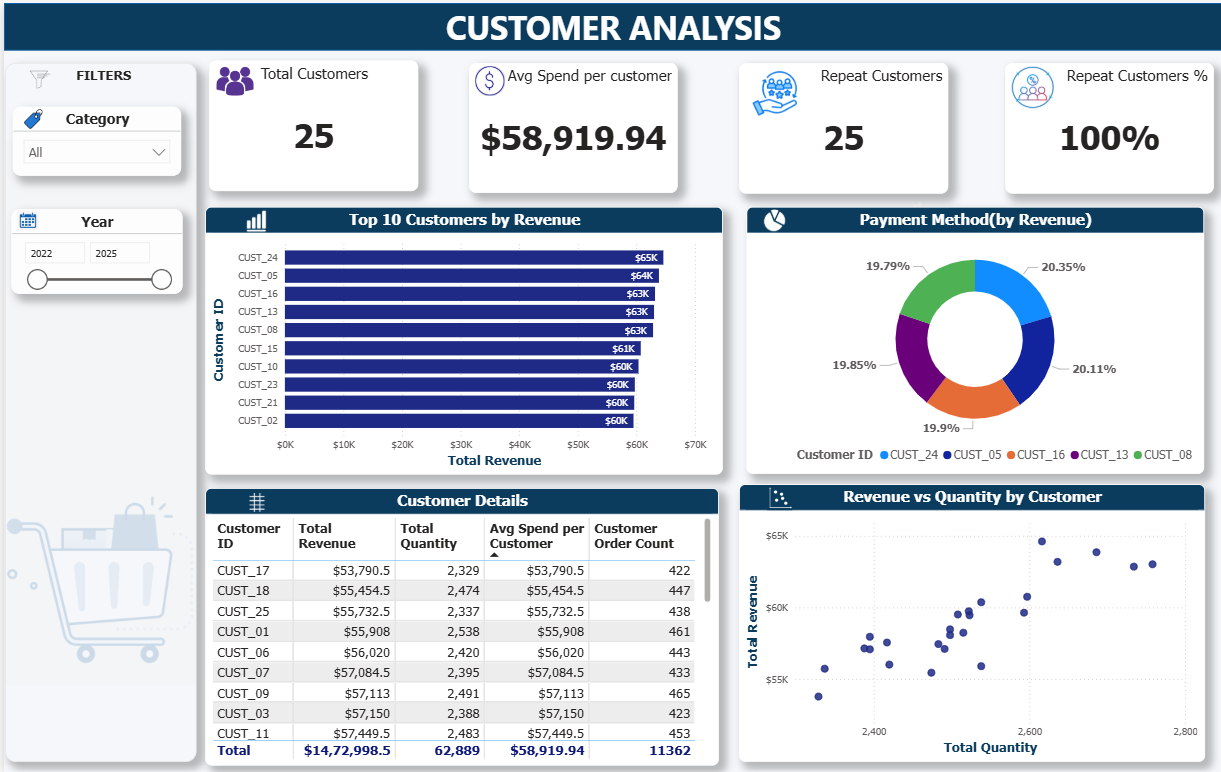

The dashboard page shown, as its layout file describes it:
{"tool":"powerbi","page":{"name":"CUSTOMER ANALYSIS","canvas":[1500,950],"ordinal":2},"visuals":[{"type":"shape","box":[0,0,1500,58.6],"z":0},{"type":"card","title":"Total Customers","fields":{"Values":["sales_cleaned.Total Customers"]},"box":[252.4,70,257.9,160.9],"z":0,"group":"g8"},{"type":"group","id":"g1","title":"Group 9","box":[572.9,74.3,257.1,160],"z":0,"group":"g9"},{"type":"image","box":[1.7,73.3,235,860],"z":1000},{"type":"textbox","box":[7.5,74,230,42.5],"z":2000},{"type":"image","box":[13.7,70.6,61.2,47.5],"z":3000},{"type":"slicer","title":"Category","fields":{"Values":["sales_cleaned.Category"]},"box":[11.4,127.6,207.5,85],"z":3000,"group":"g4"},{"type":"group","id":"g2","title":"Group 5","box":[247.1,249.3,637.1,330.7],"z":4000},{"type":"group","id":"g3","title":"Group 7","box":[8.6,254.3,210,104.3],"z":5000},{"type":"group","id":"g4","title":"Group 10","box":[11.4,127.6,207.5,85],"z":6000},{"type":"slicer","title":"Year","fields":{"Values":["sales_cleaned.Transaction Date.Variation.Date Hierarchy.Year"]},"box":[8.6,254.3,210,103.8],"z":6000,"group":"g3"},{"type":"group","id":"g5","title":"Group 8","box":[1098.6,238.6,40,35.7],"z":7000},{"type":"group","id":"g6","title":"Group 1","box":[1231.4,74.3,257,160.9],"z":8000},{"type":"group","id":"g7","title":"Group 2","box":[904.3,74.3,257.7,160.9],"z":9000},{"type":"image","box":[18.9,130.1,35,23.8],"z":9000,"group":"g4"},{"type":"group","id":"g8","title":"Group 3","box":[252.4,70,257.9,160.9],"z":10000},{"type":"image","box":[580,74.3,35.7,44.3],"z":10500,"group":"g9"},{"type":"group","id":"g9","title":"Group 12","box":[572.9,74.3,257.1,160],"z":11000},{"type":"card","title":"Avg Spend per customer","fields":{"Values":["sales_cleaned.Avg Spend per Customer"]},"box":[572.9,74.3,257.1,160],"z":11000,"group":"g1"},{"type":"group","id":"g10","title":"Group 6","box":[913.4,251.4,562.9,328.6],"z":12000},{"type":"image","box":[11.1,256.2,35,23.8],"z":12000,"group":"g3"},{"type":"scatterChart","title":"Revenue vs Quantity by Customer","fields":{"X":["sales_cleaned.Total Quantity"],"Y":["sales_cleaned.Total Revenue"],"Category":["sales_cleaned.Customer ID"]},"box":[905,591.7,573.3,341.7],"z":13000},{"type":"tableEx","title":"Customer Details","fields":{"Values":["sales_cleaned.Customer ID","sales_cleaned.Total Revenue","sales_cleaned.Total Quantity","sales_cleaned.Avg Spend per Customer","sales_cleaned.Customer Order Count"]},"box":[246.9,596.4,631.7,341.7],"z":13000,"group":"g11"},{"type":"image","box":[261,71.4,45.7,48.6],"z":14000,"group":"g8"},{"type":"group","id":"g11","title":"Group 4","box":[246.9,596.4,631.7,341.7],"z":14000},{"type":"image","box":[930,593.3,48.3,30],"z":15000},{"type":"image","box":[283.6,603.1,53.3,23.3],"z":15000,"group":"g11"},{"type":"barChart","title":"Top 10 Customers by Revenue","fields":{"Y":["sales_cleaned.Total Revenue"],"Category":["sales_cleaned.Customer ID"]},"box":[247.1,250.7,637.1,329.3],"z":16000,"group":"g12"},{"type":"group","id":"g12","title":"Group 11","box":[247.1,249.3,637.1,330.7],"z":16001,"group":"g2"},{"type":"card","title":"Repeat Customers","fields":{"Values":["sales_cleaned.Repeat Customers"]},"box":[904.3,74.3,257.7,160.9],"z":17000,"group":"g7"},{"type":"donutChart","title":"Payment Method(by Revenue)","fields":{"Y":["sales_cleaned.Total Revenue"],"Category":["sales_cleaned.Customer ID"]},"box":[913.4,251.4,562.9,328.6],"z":17000,"group":"g10"},{"type":"card","title":"Repeat Customers %","fields":{"Values":["sales_cleaned.Repeat Customer %"]},"box":[1231.4,74.3,257,160.9],"z":18000,"group":"g6"},{"type":"image","box":[911.4,80,71.4,58.6],"z":19000,"group":"g7"},{"type":"image","box":[1234.3,78.6,61.4,51.4],"z":20000,"group":"g6"},{"type":"image","box":[1098.6,238.6,40,35.7],"z":20002,"group":"g5"},{"type":"image","box":[274.2,249.3,70,38.6],"z":20002,"group":"g12"},{"type":"image","box":[918.6,252.2,59.3,30],"z":20005,"group":"g10"}]}

Visuals, with their boxes in screenshot pixels (x1, y1, x2, y2), scaled from the page's 1500x950 canvas onto the 1221x772 screenshot:
shape: crop(0, 0, 1220, 48)
"Total Customers" card: crop(205, 57, 415, 188)
"Group 9" group: crop(466, 60, 676, 190)
image: crop(1, 60, 193, 758)
textbox: crop(6, 60, 193, 95)
image: crop(11, 57, 61, 96)
"Category" slicer: crop(9, 104, 178, 173)
"Group 5" group: crop(201, 203, 720, 471)
"Group 7" group: crop(7, 207, 178, 291)
"Group 10" group: crop(9, 104, 178, 173)
"Year" slicer: crop(7, 207, 178, 291)
"Group 8" group: crop(894, 194, 927, 223)
"Group 1" group: crop(1002, 60, 1212, 191)
"Group 2" group: crop(736, 60, 946, 191)
image: crop(15, 106, 44, 125)
"Group 3" group: crop(205, 57, 415, 188)
image: crop(472, 60, 501, 96)
"Group 12" group: crop(466, 60, 676, 190)
"Avg Spend per customer" card: crop(466, 60, 676, 190)
"Group 6" group: crop(744, 204, 1202, 471)
image: crop(9, 208, 38, 228)
"Revenue vs Quantity by Customer" scatterChart: crop(737, 481, 1203, 759)
"Customer Details" tableEx: crop(201, 485, 715, 762)
image: crop(212, 58, 250, 98)
"Group 4" group: crop(201, 485, 715, 762)
image: crop(757, 482, 796, 507)
image: crop(231, 490, 274, 509)
"Top 10 Customers by Revenue" barChart: crop(201, 204, 720, 471)
"Group 11" group: crop(201, 203, 720, 471)
"Repeat Customers" card: crop(736, 60, 946, 191)
"Payment Method(by Revenue)" donutChart: crop(744, 204, 1202, 471)
"Repeat Customers %" card: crop(1002, 60, 1212, 191)
image: crop(742, 65, 800, 113)
image: crop(1005, 64, 1055, 106)
image: crop(894, 194, 927, 223)
image: crop(223, 203, 280, 234)
image: crop(748, 205, 796, 229)
